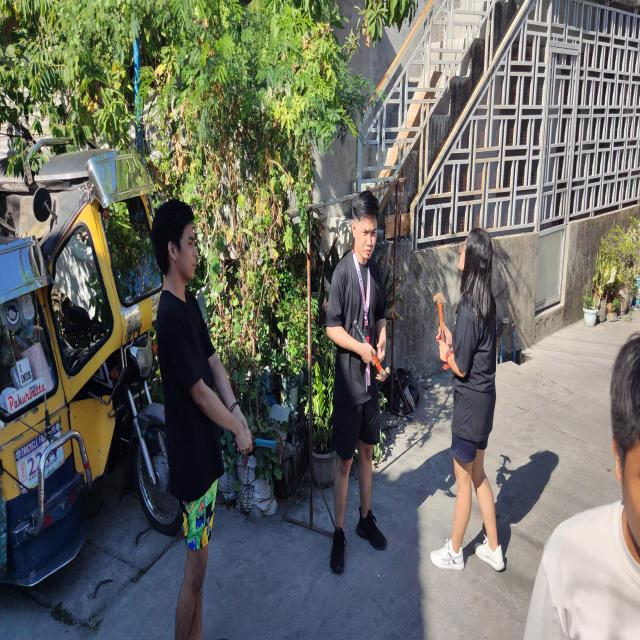hammer: (352, 319, 390, 381), (230, 424, 284, 465), (434, 292, 448, 370)
